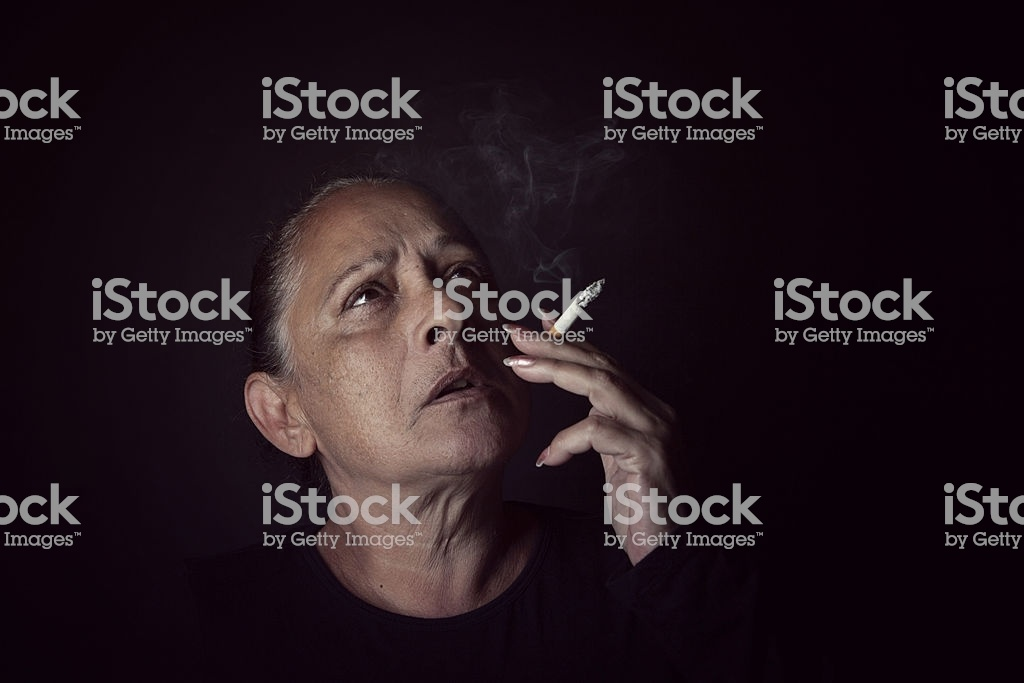sigaretta: (537, 283, 596, 345)
